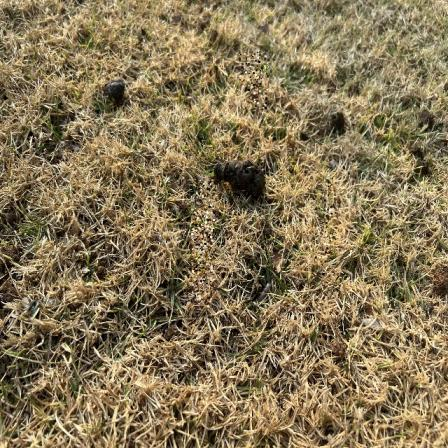dog-poop: (211, 151, 268, 197), (103, 75, 132, 103)
